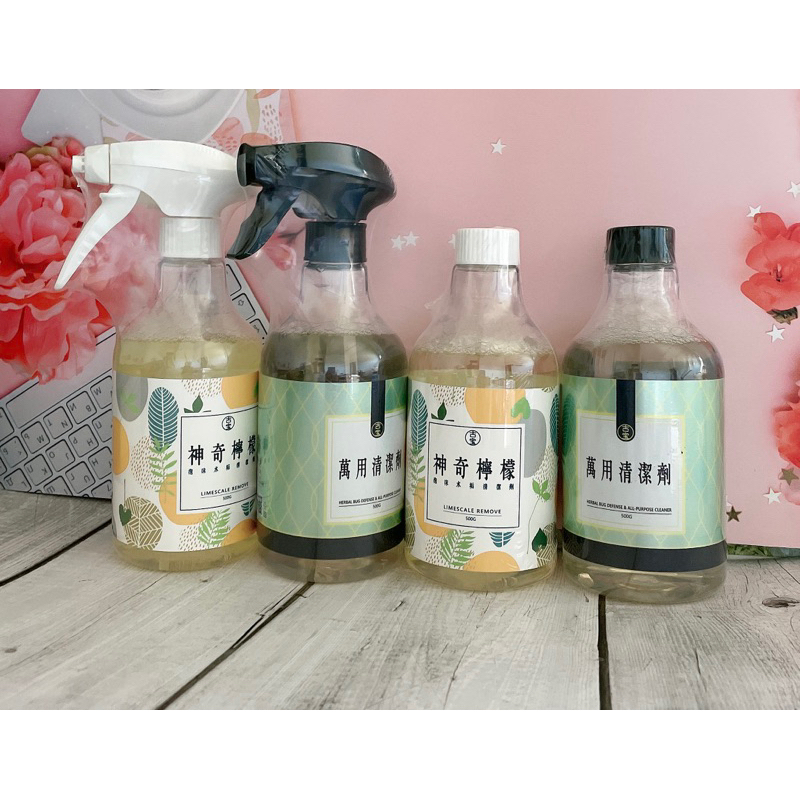cleaner: (57, 138, 266, 575), (542, 220, 754, 609), (227, 137, 404, 585), (388, 220, 564, 597)
